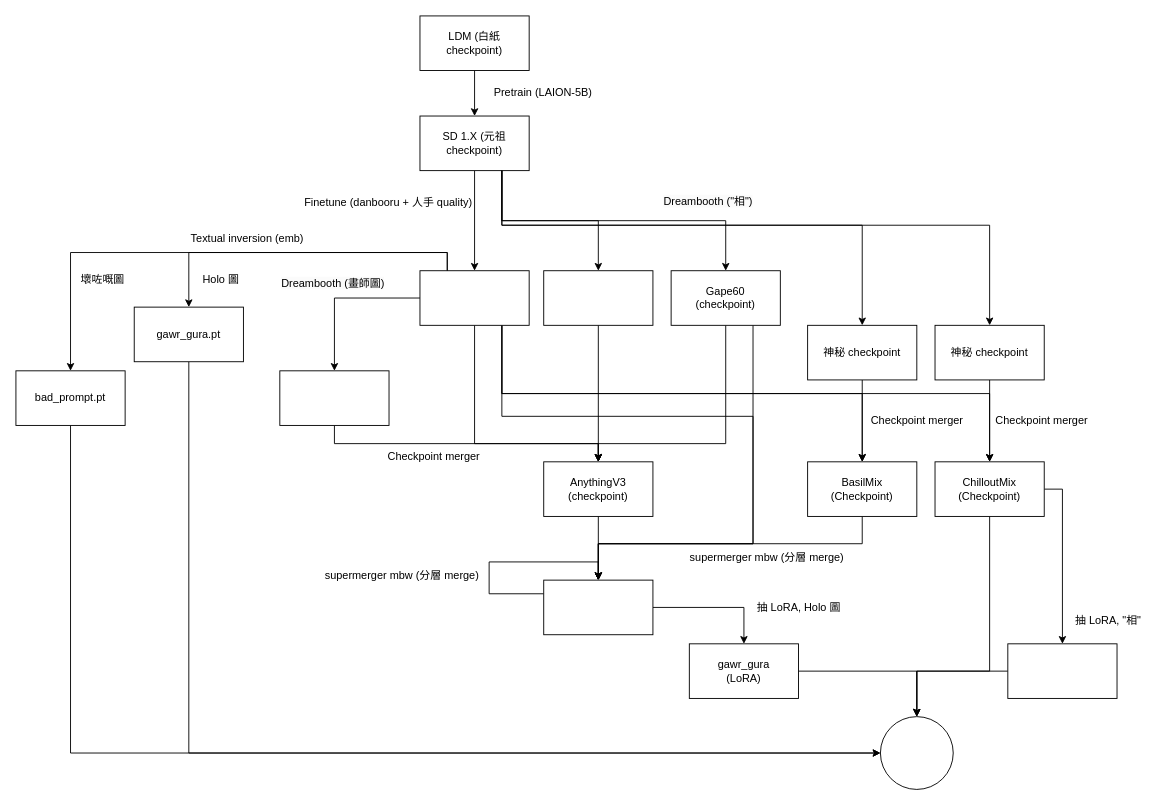
The diagram is 1169 pixels wide and 805 high, and some of its shapes have lost their labels. The shapes that lost their labels are listed below. From the top down, each one's box as (x1, y1, x2, y2) in pixels, then its label:
(419, 270, 529, 325): novelai-leak (checkpoint)
(543, 270, 653, 325): F222 (checkpoint)
(279, 370, 389, 425): "mmk-e" (checkpoint)
(543, 579, 653, 635): AbyssOrangeMix2 (Checkpoint)
(1007, 643, 1117, 698): xxx Doll Likeness (LoRA)
(880, 716, 953, 789): Holo cos 圖
